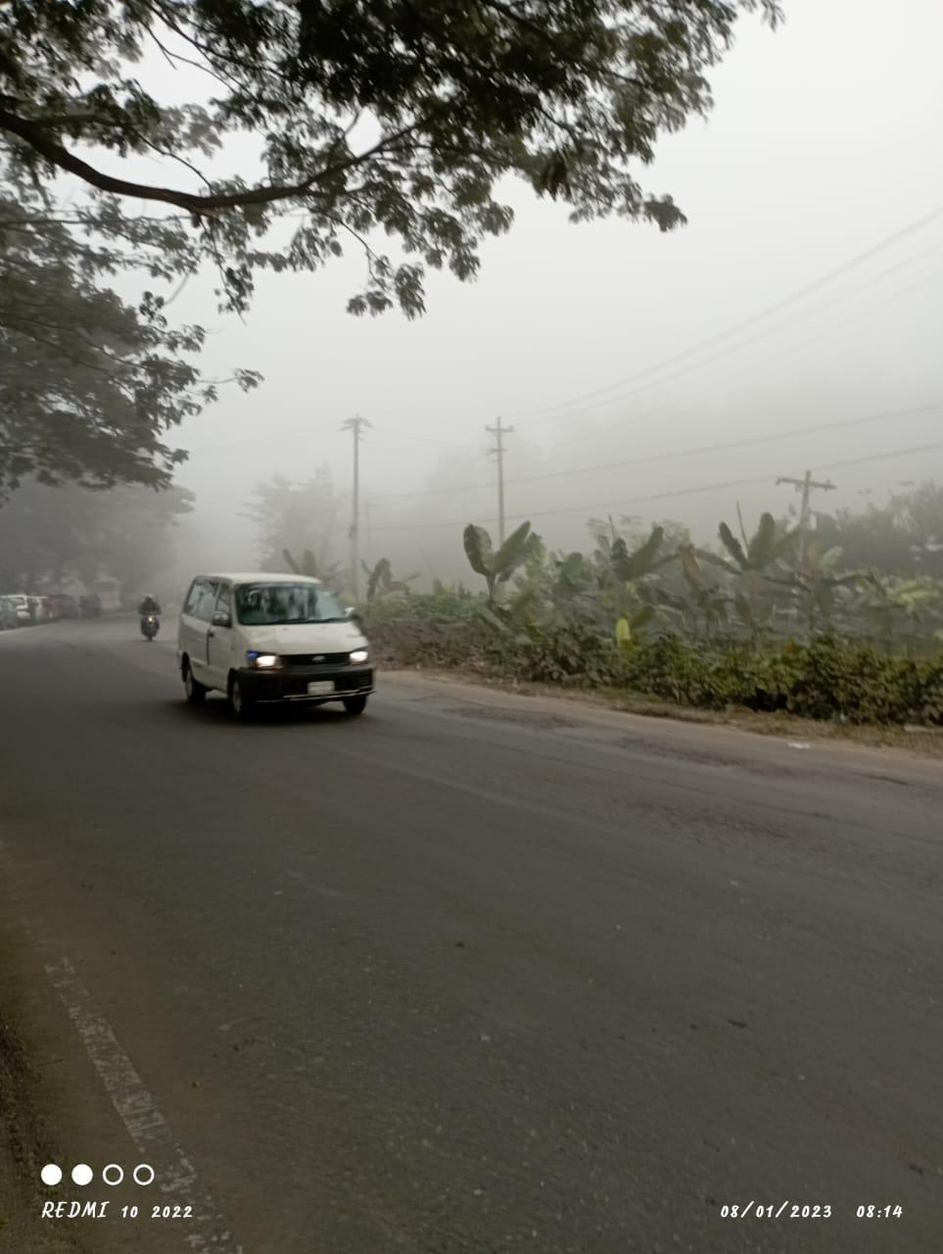Bike: (125, 588, 169, 646)
Car: (168, 563, 386, 732)
